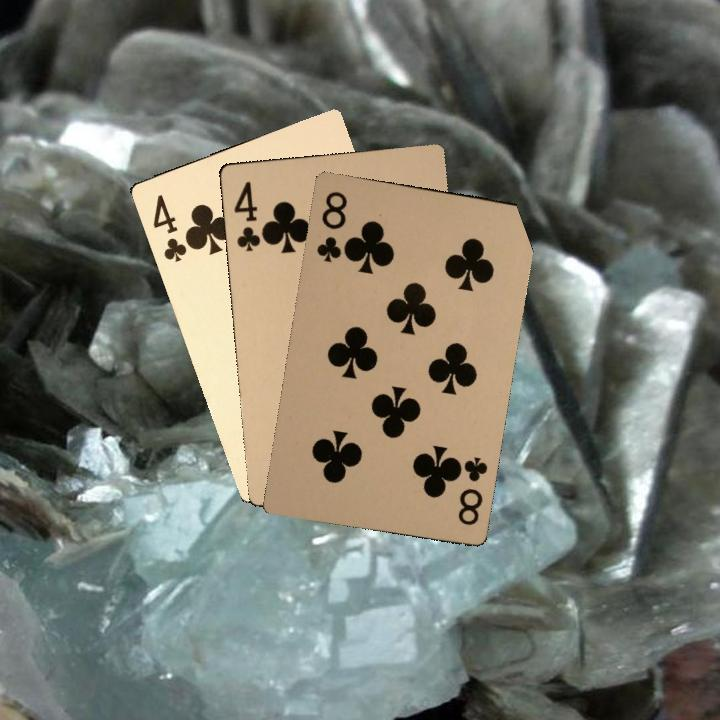4c: (148, 190, 196, 264), (230, 177, 268, 255)
8c: (451, 452, 490, 528), (313, 187, 350, 265)
